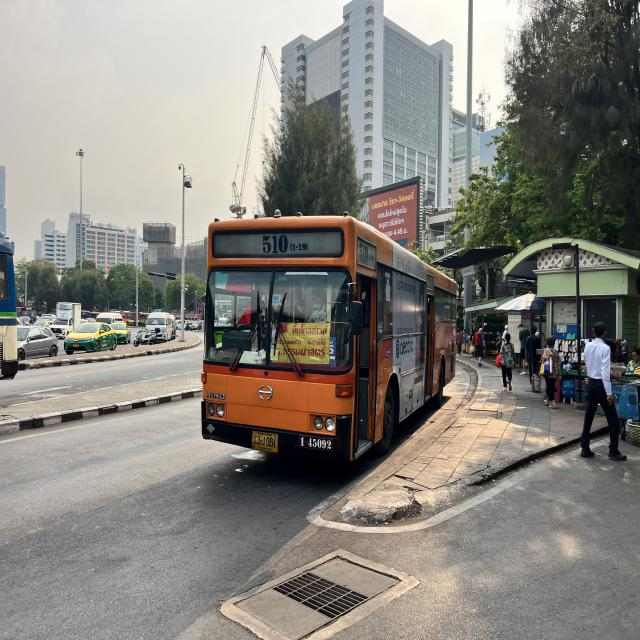BMTA-bus: (196, 206, 460, 463)
Bus-Line-Number: (260, 234, 312, 254)
Destination-Sign-Normal-Expressway: (273, 323, 330, 363)
